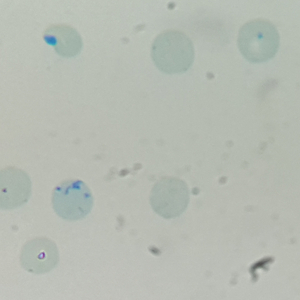aggregate reticulocyte: (50, 177, 95, 223)
erythrocyte: (236, 18, 282, 65), (147, 175, 191, 220), (18, 236, 61, 276), (41, 23, 85, 59)
punctate reticulocyte: (150, 29, 197, 76)
